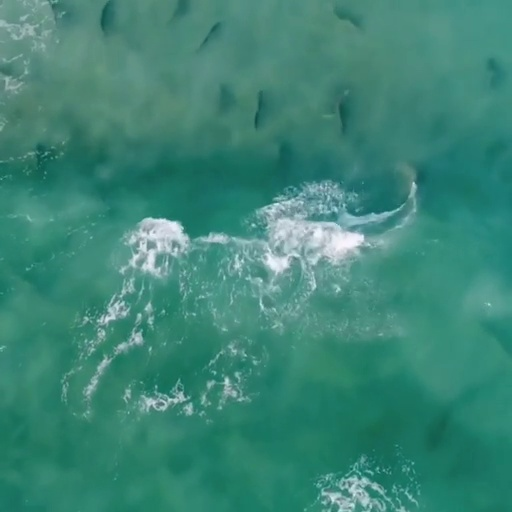shark: (388, 158, 424, 214)
